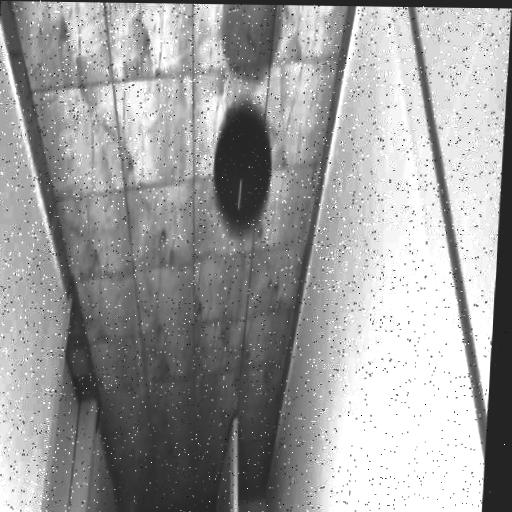balloon: (206, 102, 278, 236)
